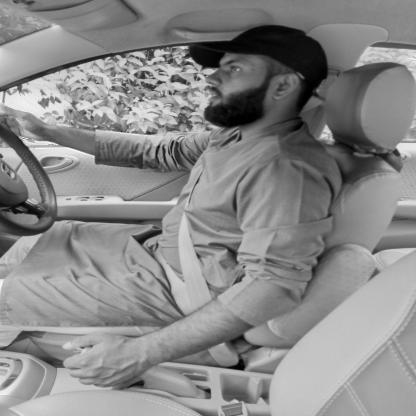seatbelt: (162, 16, 322, 261)
